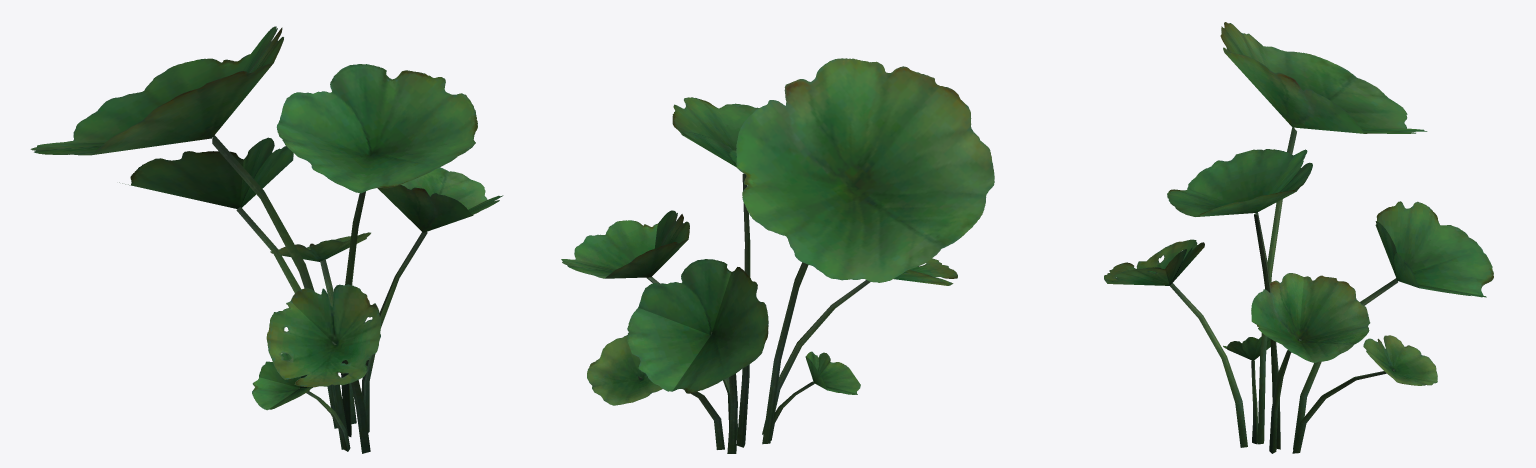
The picture shows the model from 3 angles, left to right: view 1: azimuth 30°, elevation 25°; view 2: azimuth 150°, elevation 25°; view 3: azimuth 270°, elevation 25°; orthographic projection. The views are drawn at different scales.
Parts seen in each view (by area): view 1: Object02; view 2: Object02; view 3: Object02.
Part boxes in pixels (x1,y1,x2,y2): Object02: (30, 26, 503, 453); Object02: (561, 58, 994, 453); Object02: (1104, 22, 1493, 453).
Size of the model in its own units: 282 by 242 by 251.
